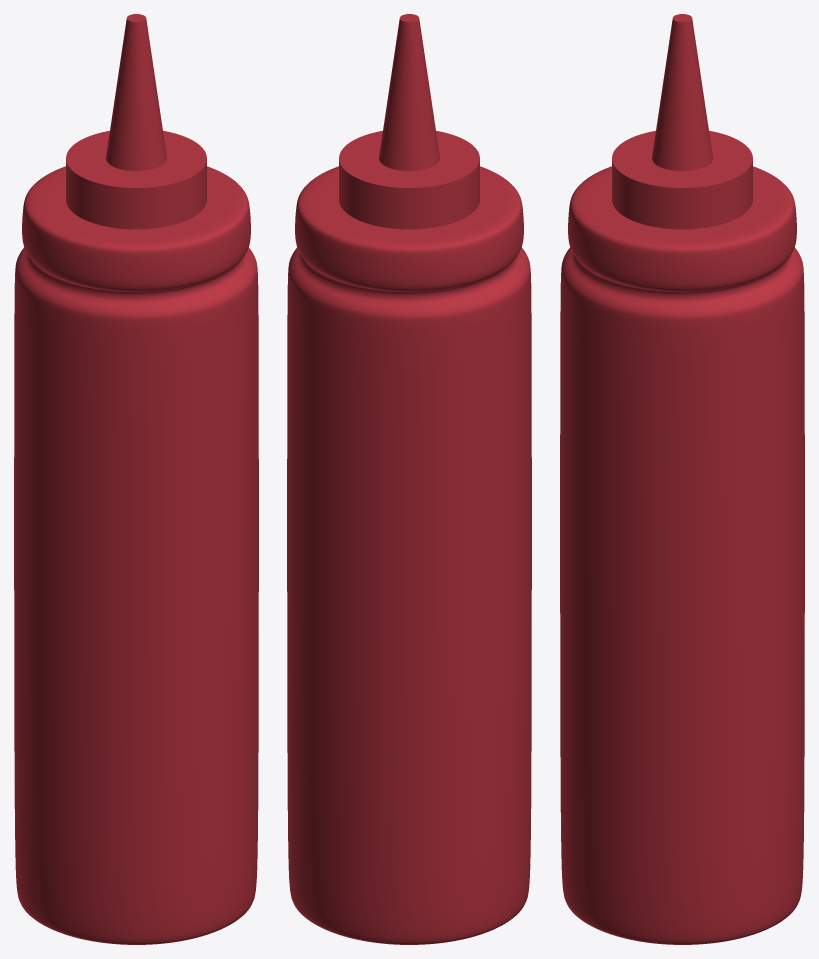
Rendered from ketchup_bottle.fbx.
3 renders of one model, left to right at view 1: azimuth 30°, elevation 25°; view 2: azimuth 150°, elevation 25°; view 3: azimuth 270°, elevation 25°, orthographic.
Visible parts, largest first — view 1: Vert; view 2: Vert; view 3: Vert.
Part boxes in pixels (x1,y1,x2,y2): Vert: (14,14,258,944); Vert: (287,14,531,944); Vert: (560,14,804,944).
Size of the model in its own units: 74.37 by 296 by 74.37.
